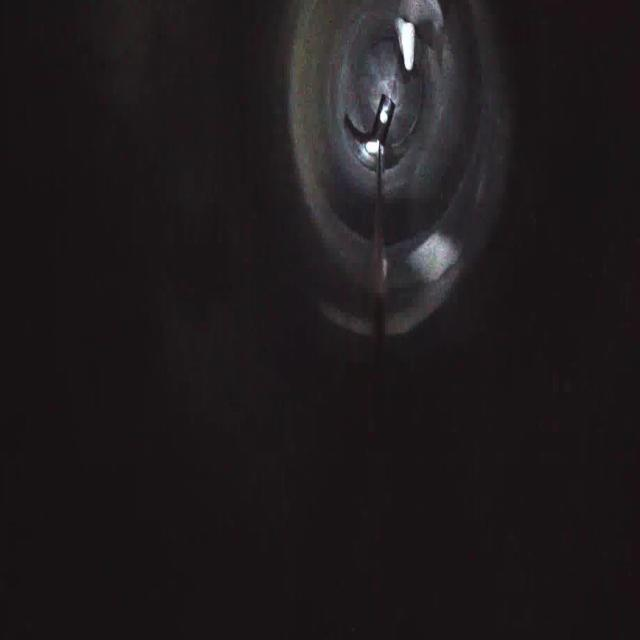impurity: (391, 6, 420, 74)
